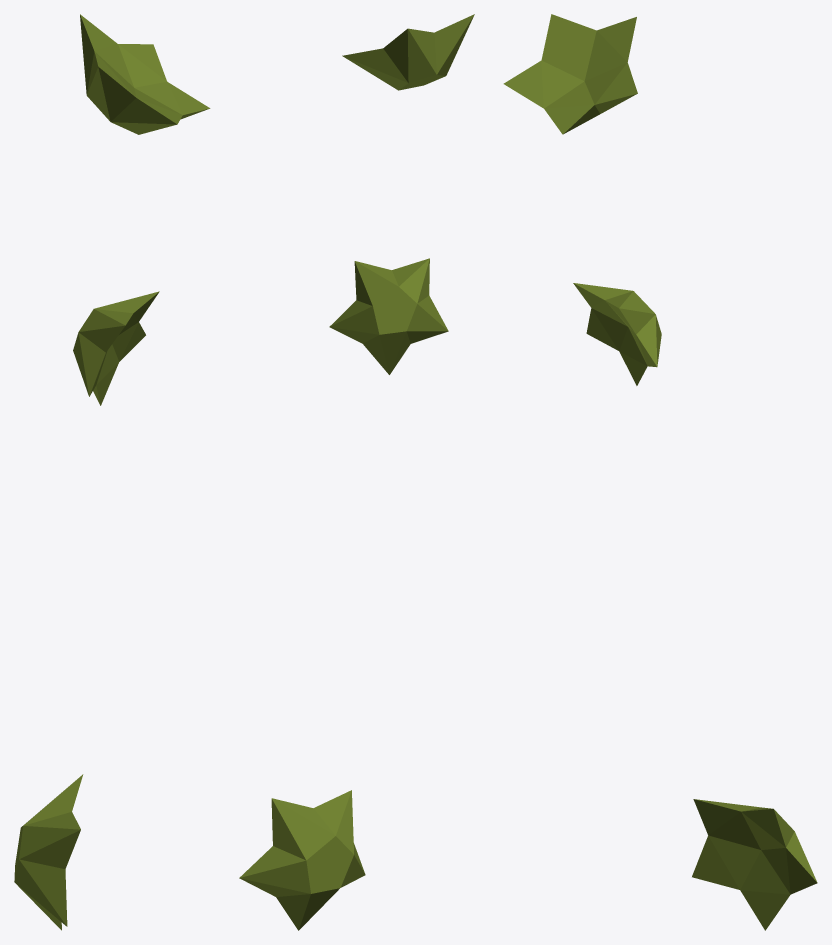
The picture shows the model from 3 angles, left to right: view 1: azimuth 30°, elevation 25°; view 2: azimuth 150°, elevation 25°; view 3: azimuth 270°, elevation 25°; orthographic projection. The views are drawn at different scales.
Parts seen in each view (by area): view 1: Box15930_green2_0, Box15908_green2_0, Box15920_green2_0; view 2: Box15908_green2_0, Box15920_green2_0, Box15930_green2_0; view 3: Box15908_green2_0, Box15930_green2_0, Box15920_green2_0.
Boxes of the visible parts, left/top/right/bottom form: Box15930_green2_0: left=80, top=14, right=210, bottom=134; Box15908_green2_0: left=14, top=774, right=83, bottom=930; Box15920_green2_0: left=73, top=291, right=159, bottom=405; Box15908_green2_0: left=239, top=790, right=365, bottom=930; Box15920_green2_0: left=329, top=258, right=448, bottom=374; Box15930_green2_0: left=342, top=14, right=474, bottom=90; Box15908_green2_0: left=692, top=799, right=817, bottom=930; Box15930_green2_0: left=503, top=14, right=637, bottom=134; Box15920_green2_0: left=573, top=283, right=661, bottom=385.
Size of the model in its own units: 99.48 by 777 by 249.
